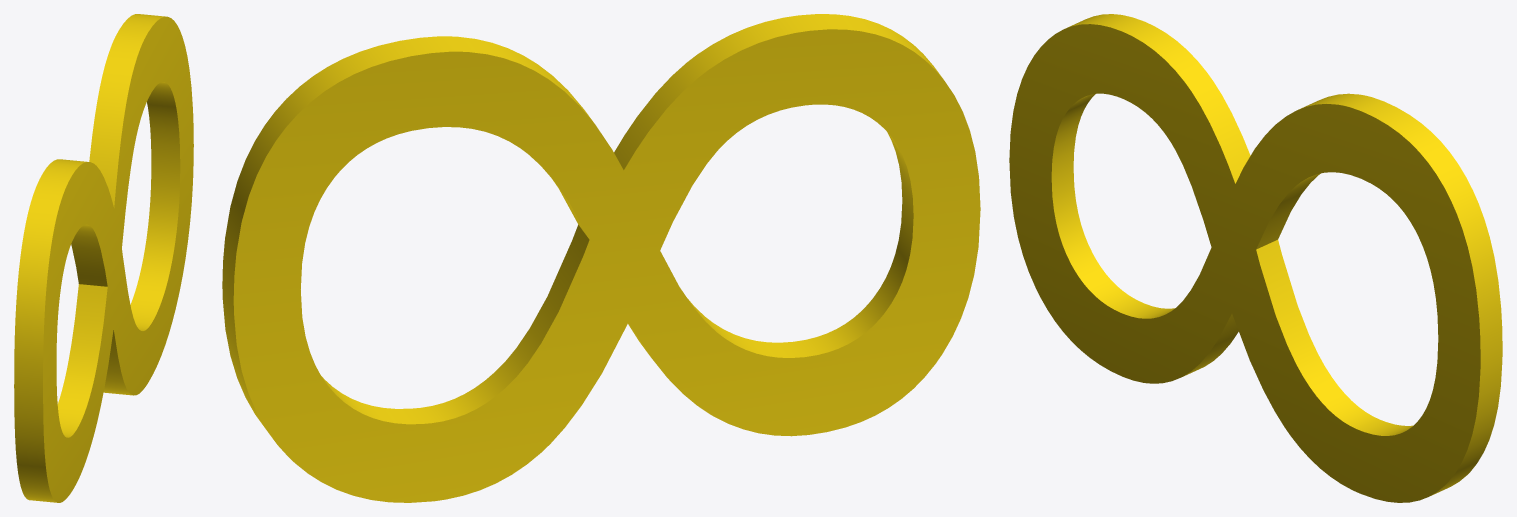
Rendered from Number_8.gltf.
The picture shows the model from 3 angles, left to right: view 1: azimuth 30°, elevation 25°; view 2: azimuth 150°, elevation 25°; view 3: azimuth 270°, elevation 25°; orthographic projection. The views are drawn at different scales.
Visible parts, largest first — view 1: Sub_4_Cell_2_2_Number_8; view 2: Sub_4_Cell_2_2_Number_8; view 3: Sub_4_Cell_2_2_Number_8.
Part boxes in pixels (x1,y1,x2,y2): Sub_4_Cell_2_2_Number_8: (14,14,193,502); Sub_4_Cell_2_2_Number_8: (222,14,980,502); Sub_4_Cell_2_2_Number_8: (1009,14,1502,502).
Bounding box in the file's own units: 0.0191 × 0.0166 × 0.0193.
